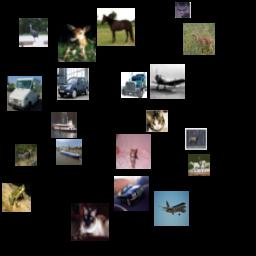airplane: (154, 191, 189, 226), (150, 64, 185, 99)
automobile: (114, 176, 149, 211), (57, 68, 89, 100)
bird: (19, 18, 48, 47)
cat: (71, 203, 109, 241), (116, 134, 151, 169), (146, 110, 168, 132)
deer: (58, 24, 96, 62), (183, 23, 215, 55), (15, 144, 37, 166), (185, 128, 207, 150), (175, 2, 191, 18)
frog: (2, 183, 31, 212)
ship: (56, 139, 82, 165), (51, 112, 77, 138)
truck: (7, 76, 42, 111), (121, 72, 147, 98)
